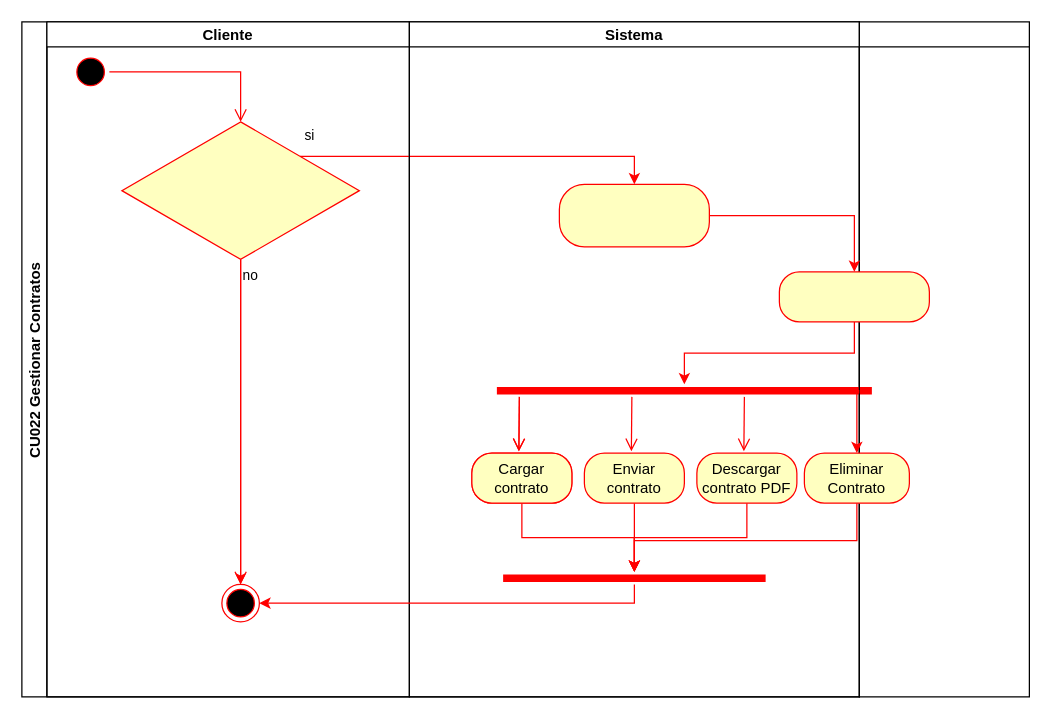
This 1051x719 diagram has some shape labels left out. Here are the shapes that lost their labels. From the top down, the centre of each, then its label:
pixel 240 190: Pulsa el apartado "Contratos"
pixel 633 215: Mostrar apartado
pixel 853 296: Mostrar lista de contratos
pixel 943 359: Administrador
